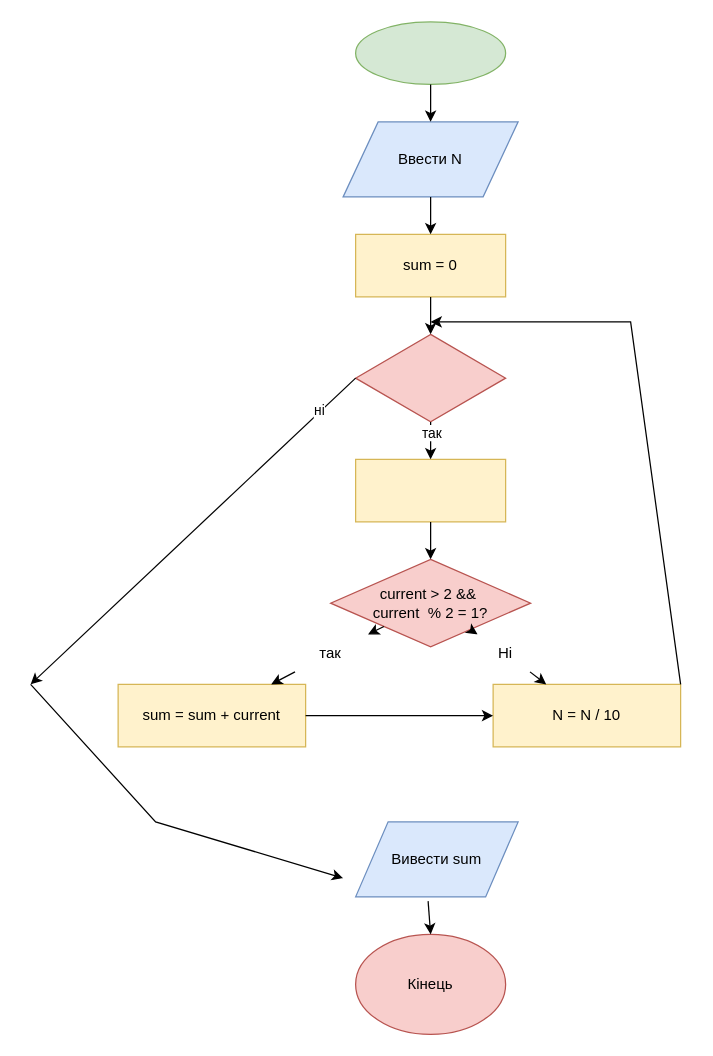
This 713x1056 diagram has some shape labels left out. The centre of each missing label's shape, as x and y in pixels:
"current = N % 10" goes at (430,490).
"N > 0 ?" goes at (430,377).
"Початок" goes at (430,52).
